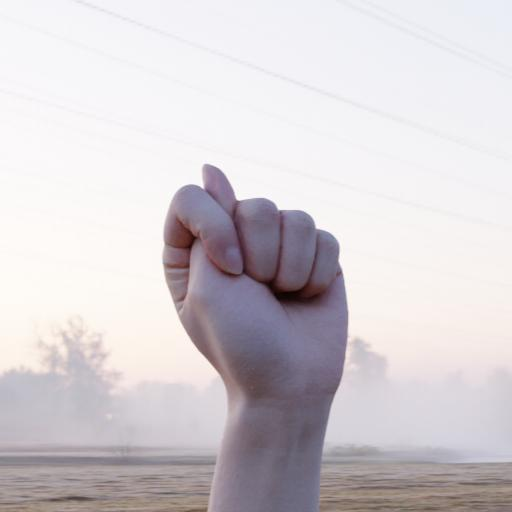T: (157, 160, 355, 396)
